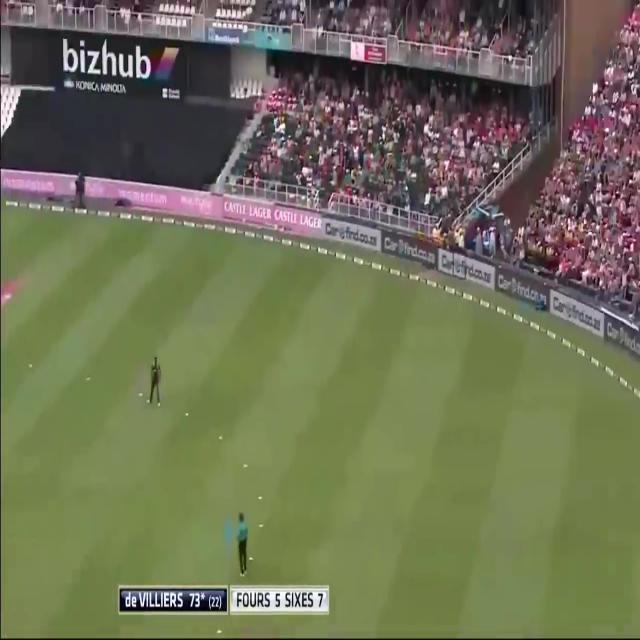Fielder: (143, 352, 169, 408)
Umpire: (235, 509, 250, 577)
